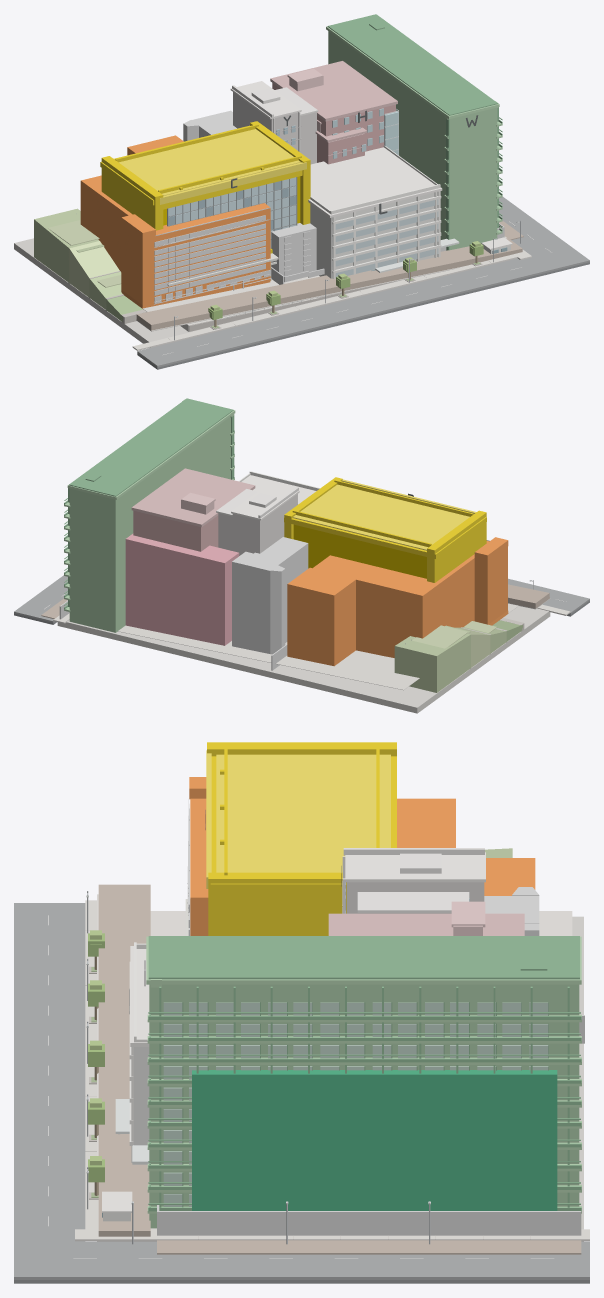
The model's file is tung-wah-1933.glb.
The picture shows the model from 3 angles, top to bottom: view 1: azimuth 30°, elevation 25°; view 2: azimuth 150°, elevation 25°; view 3: azimuth 270°, elevation 25°; orthographic projection. The views are drawn at different scales.
Visible parts, largest first — view 1: W_WongFungLing_01_MainBlock__W_wall, Street_01_PoYanRoad__road, C, W_WongFungLing_02_RoofSlab__W_dark, 普仁街, C_Centenary_02_RoofSlab__C_yellow_light, L_LiShiuChung_02_Roof__roof_cream, C_Centenary_05_YellowFrame__C_yellow, H_HawkinsWing_02_Roof__H_roof, L_LiShiuChung_01_Core__L_wall, L_LiShiuChung_03_FrontGlass__L_glass, Landscape_01_Hillside__grass (+33 smaller); view 2: W_WongFungLing_01_MainBlock__W_wall, H, C.001, Site_00_Platform__site_concrete, Y.001, W_WongFungLing_02_RoofSlab__W_dark, C_Centenary_02_RoofSlab__C_yellow_light, Y, Site_01_CampusPaving__site_paving, Landscape_01_Hillside__grass, H_HawkinsWing_02_Roof__H_roof, C_Centenary_01_Core__C_dark_yellow (+21 smaller); view 3: W, Street_01_PoYanRoad__road, W_WongFungLing_01_MainBlock__W_wall, C_Centenary_02_RoofSlab__C_yellow_light, W_WongFungLing_02_RoofSlab__W_dark, Street_02_NewStreet__road, W_WongFungLing_03_EastWindowBands__W_glass, 普仁街, W_WongFungLing_04_EastBalconies__W_trim, 圍牆.010, C_Centenary_05_YellowFrame__C_yellow, W_WongFungLing_04_EastBalconies__W_slab (+25 smaller).
Boxes of the visible parts, x1,y1,x2,y2 form: W_WongFungLing_01_MainBlock__W_wall: [328, 31, 497, 249]; Street_01_PoYanRoad__road: [137, 252, 563, 367]; C: [121, 203, 270, 308]; W_WongFungLing_02_RoofSlab__W_dark: [327, 14, 497, 115]; 普仁街: [136, 238, 522, 330]; C_Centenary_02_RoofSlab__C_yellow_light: [115, 129, 300, 195]; L_LiShiuChung_02_Roof__roof_cream: [308, 147, 442, 217]; C_Centenary_05_YellowFrame__C_yellow: [101, 121, 310, 253]; H_HawkinsWing_02_Roof__H_roof: [270, 61, 397, 142]; L_LiShiuChung_01_Core__L_wall: [310, 192, 437, 278]; L_LiShiuChung_03_FrontGlass__L_glass: [332, 199, 438, 277]; Landscape_01_Hillside__grass: [34, 208, 122, 309]; W_WongFungLing_01_MainBlock__W_wall: [69, 417, 230, 632]; H: [125, 533, 239, 645]; C.001: [356, 558, 474, 657]; Site_00_Platform__site_concrete: [57, 606, 550, 713]; Y.001: [287, 567, 356, 666]; W_WongFungLing_02_RoofSlab__W_dark: [69, 398, 233, 496]; C_Centenary_02_RoofSlab__C_yellow_light: [293, 484, 469, 550]; Y: [240, 537, 308, 653]; Site_01_CampusPaving__site_paving: [118, 598, 550, 690]; Landscape_01_Hillside__grass: [394, 627, 506, 692]; H_HawkinsWing_02_Roof__H_roof: [131, 468, 255, 527]; C_Centenary_01_Core__C_dark_yellow: [293, 524, 426, 578]; W: [192, 1070, 557, 1210]; Street_01_PoYanRoad__road: [14, 903, 85, 1254]; W_WongFungLing_01_MainBlock__W_wall: [149, 984, 579, 1228]; C_Centenary_02_RoofSlab__C_yellow_light: [216, 754, 390, 872]; W_WongFungLing_02_RoofSlab__W_dark: [148, 936, 579, 979]; Street_02_NewStreet__road: [14, 1241, 589, 1279]; W_WongFungLing_03_EastWindowBands__W_glass: [163, 1002, 548, 1206]; 普仁街: [98, 884, 150, 1236]; W_WongFungLing_04_EastBalconies__W_trim: [148, 1012, 581, 1211]; 圍牆.010: [157, 1211, 581, 1235]; C_Centenary_05_YellowFrame__C_yellow: [207, 742, 396, 935]; W_WongFungLing_04_EastBalconies__W_slab: [147, 1014, 581, 1213].
Bounding box in the file's own units: 149 × 49 × 97.
